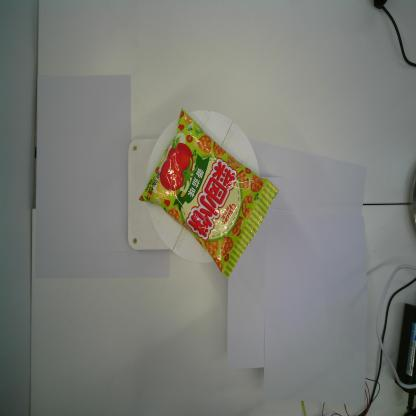Puffed Food: (137, 108, 279, 281)
